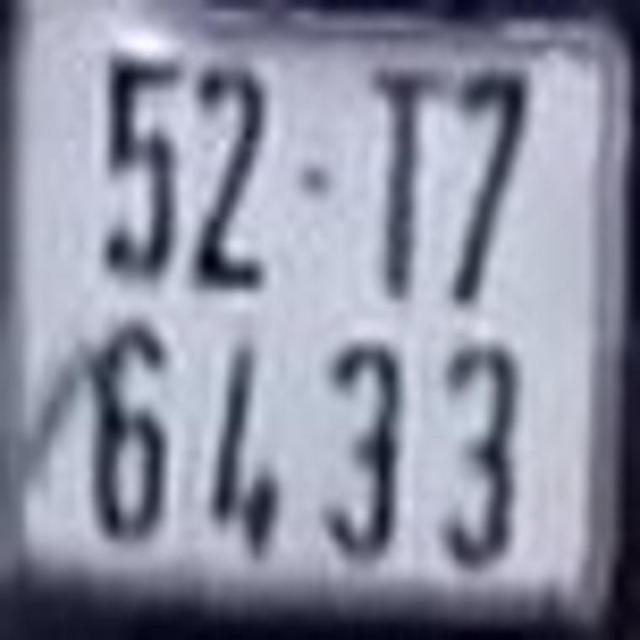2: (196, 45, 274, 294)
3: (321, 323, 411, 562), (444, 324, 529, 574)
4: (209, 314, 288, 569)
5: (102, 47, 184, 283)
6: (84, 312, 174, 547)
7: (452, 71, 533, 299)
T: (360, 62, 446, 296)
